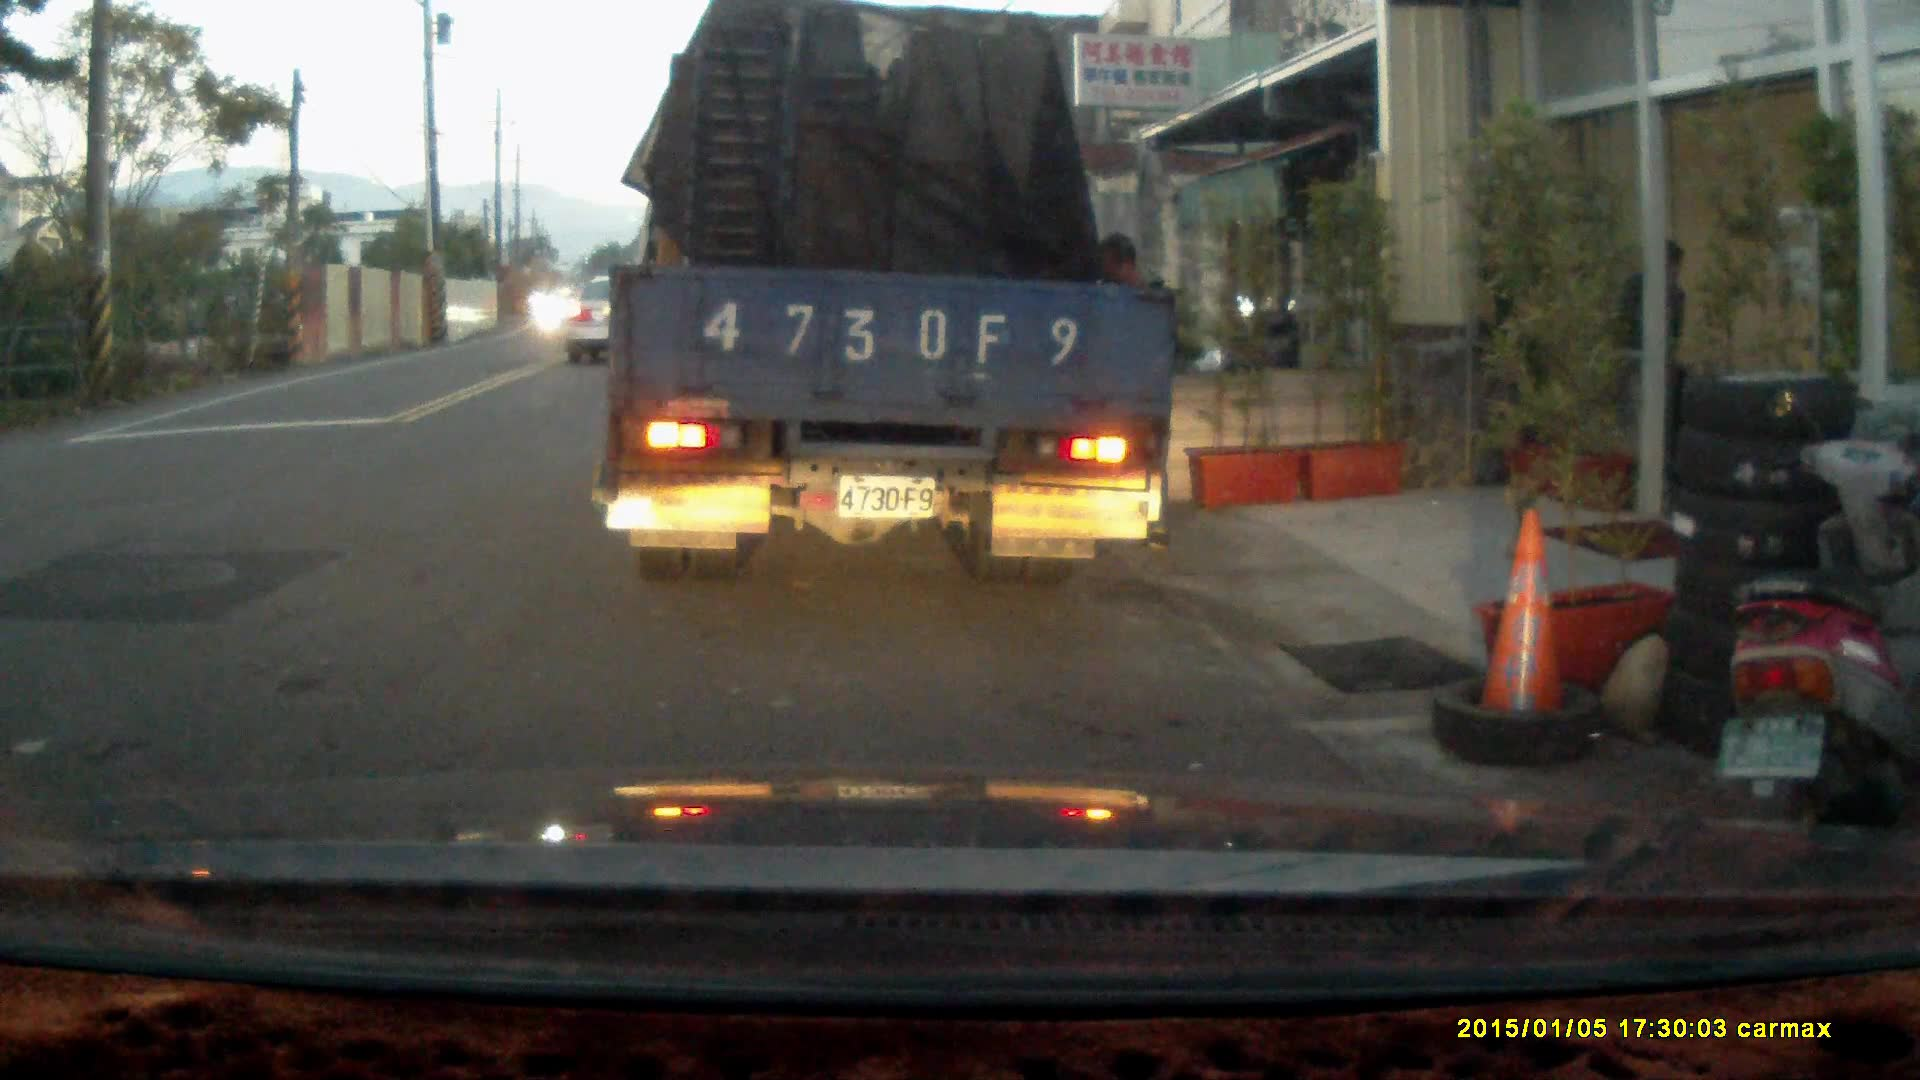pedestrian: (1086, 231, 1178, 553), (1614, 237, 1691, 478)
vehicle: (605, 23, 1188, 572), (570, 272, 653, 370)
